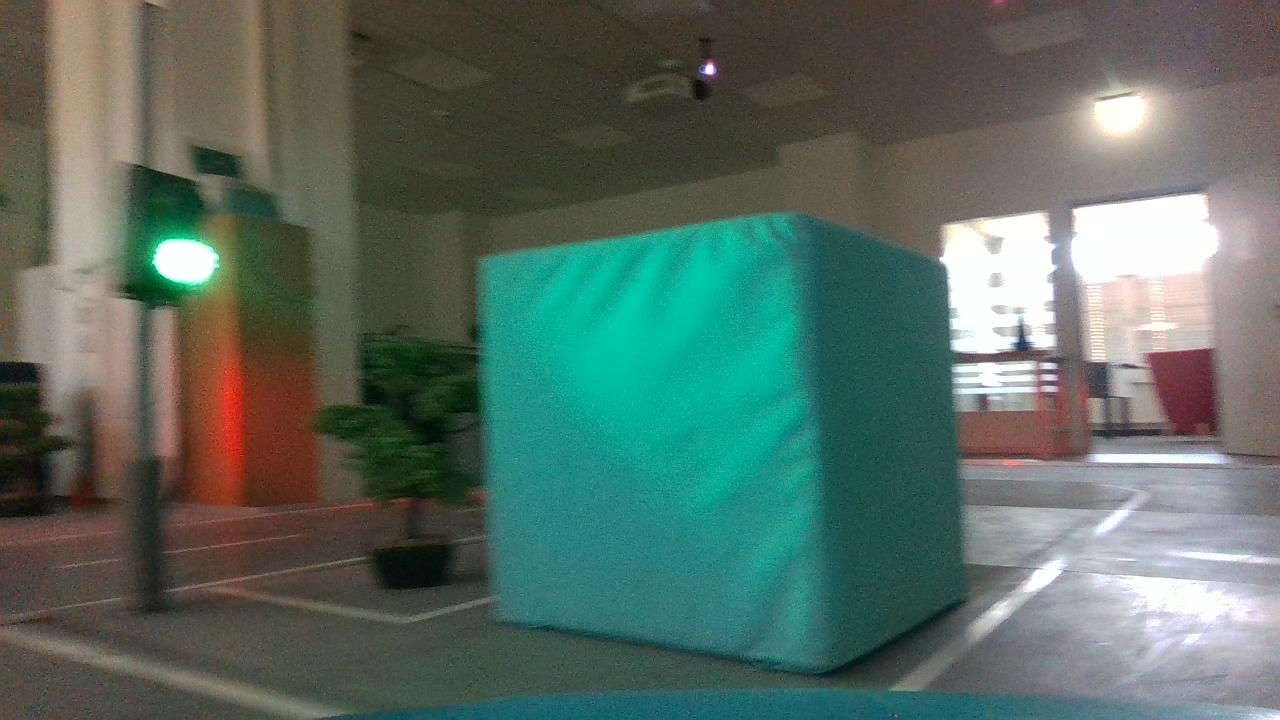traffic_light_green: (84, 140, 258, 338)
